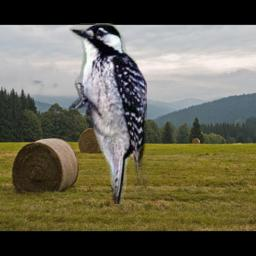Woodpecker: (69, 23, 147, 204)
